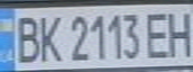1: (87, 10, 109, 61), (106, 10, 127, 61)
2: (63, 10, 90, 62)
3: (121, 9, 145, 60)
B: (9, 11, 42, 64)
E: (142, 8, 175, 60)
H: (163, 7, 193, 57)
K: (33, 11, 66, 63)
